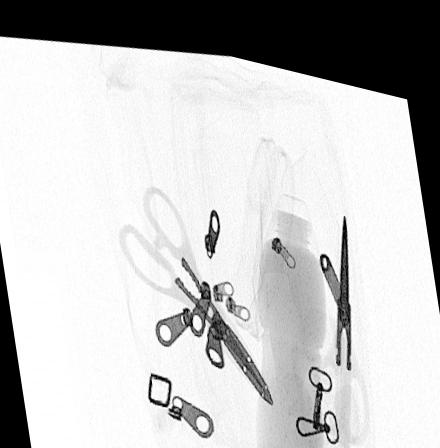Scissors: (114, 174, 277, 401), (306, 185, 373, 430)
